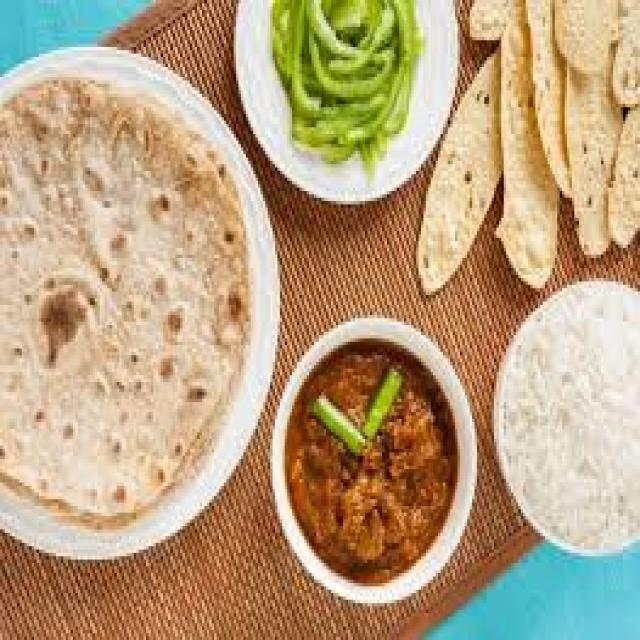BAJI: (279, 352, 452, 578)
ROTI: (1, 75, 254, 533)
